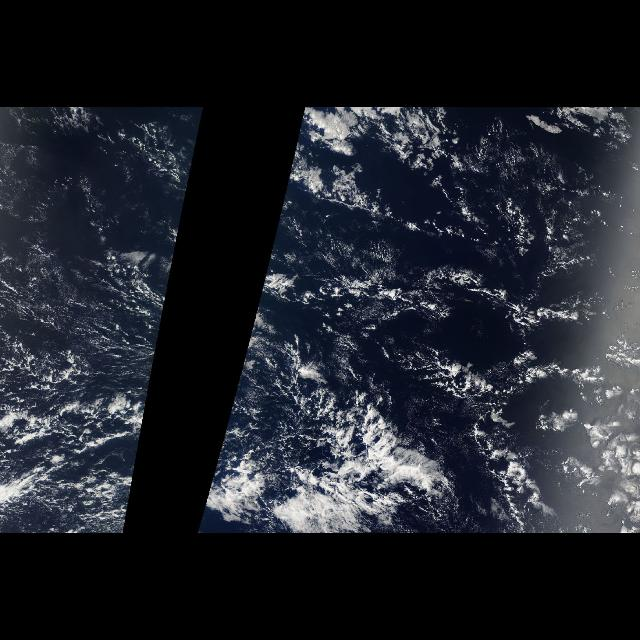Gravel: (341, 220, 637, 524), (2, 270, 152, 522)
Sugar: (450, 117, 622, 281)
